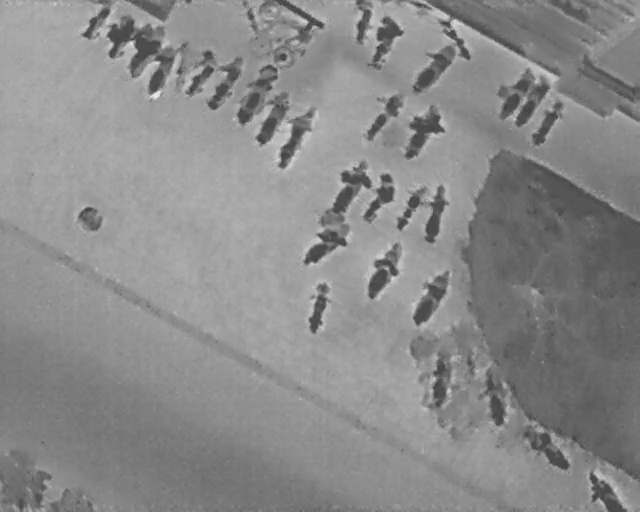Bicycle: (264, 96, 328, 175), (389, 94, 455, 169), (318, 149, 383, 224), (513, 413, 579, 482), (401, 259, 462, 332), (354, 233, 414, 306), (226, 58, 285, 132), (113, 15, 174, 83), (262, 7, 323, 75), (483, 59, 543, 126), (244, 83, 301, 152), (404, 36, 464, 100), (291, 216, 358, 273), (353, 84, 410, 148), (504, 69, 560, 134), (198, 48, 252, 115), (352, 166, 405, 229), (523, 92, 571, 153), (137, 41, 181, 106), (93, 8, 143, 63), (363, 11, 408, 72), (386, 178, 433, 236), (176, 46, 222, 102), (473, 366, 511, 429), (417, 181, 454, 245), (300, 276, 338, 336), (248, 0, 288, 52), (76, 0, 116, 44), (165, 38, 194, 96), (429, 347, 454, 410), (588, 469, 625, 511), (348, 3, 379, 47)
